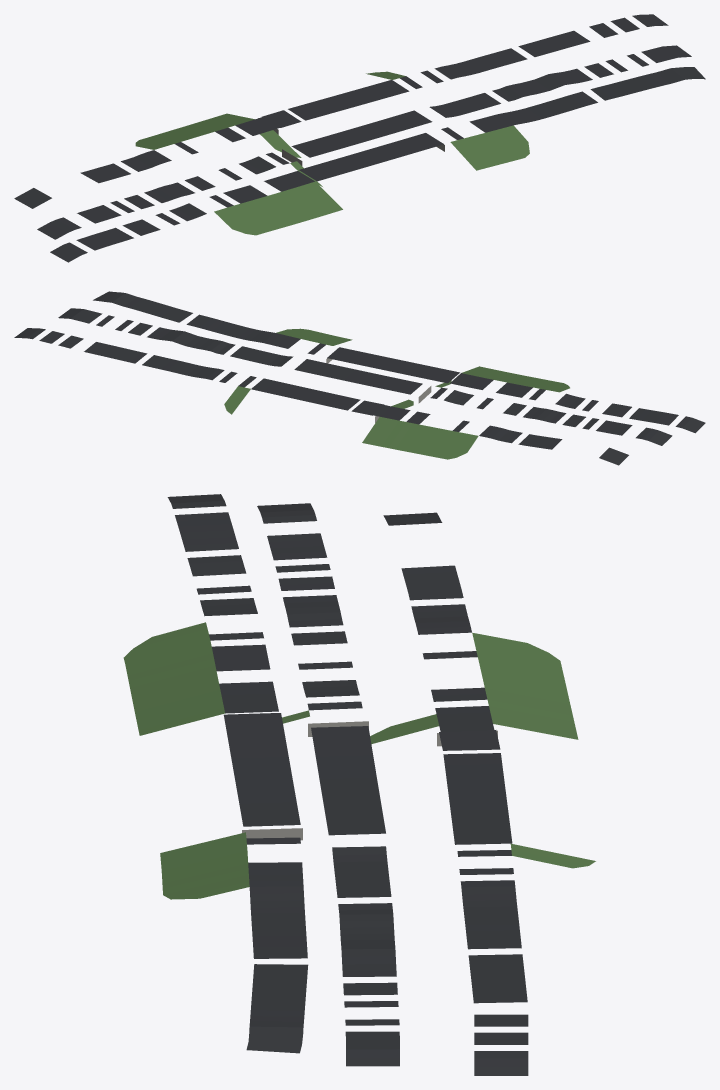
The model's file is br_h28_blackmud_arches_lod2.gltf.
3 renders of one model, top to bottom at view 1: azimuth 30°, elevation 25°; view 2: azimuth 150°, elevation 25°; view 3: azimuth 270°, elevation 25°, orthographic. The views are drawn at different scales.
Visible parts, largest first — view 1: br_h28_blackmud_arches_lod2; view 2: br_h28_blackmud_arches_lod2; view 3: br_h28_blackmud_arches_lod2.
Part boxes in pixels (box(x1,y1,x2,y2)): br_h28_blackmud_arches_lod2: box(14, 14, 705, 262); br_h28_blackmud_arches_lod2: box(14, 291, 705, 465); br_h28_blackmud_arches_lod2: box(123, 494, 595, 1075).
Size of the model in its own units: 391 by 8.76 by 132.
